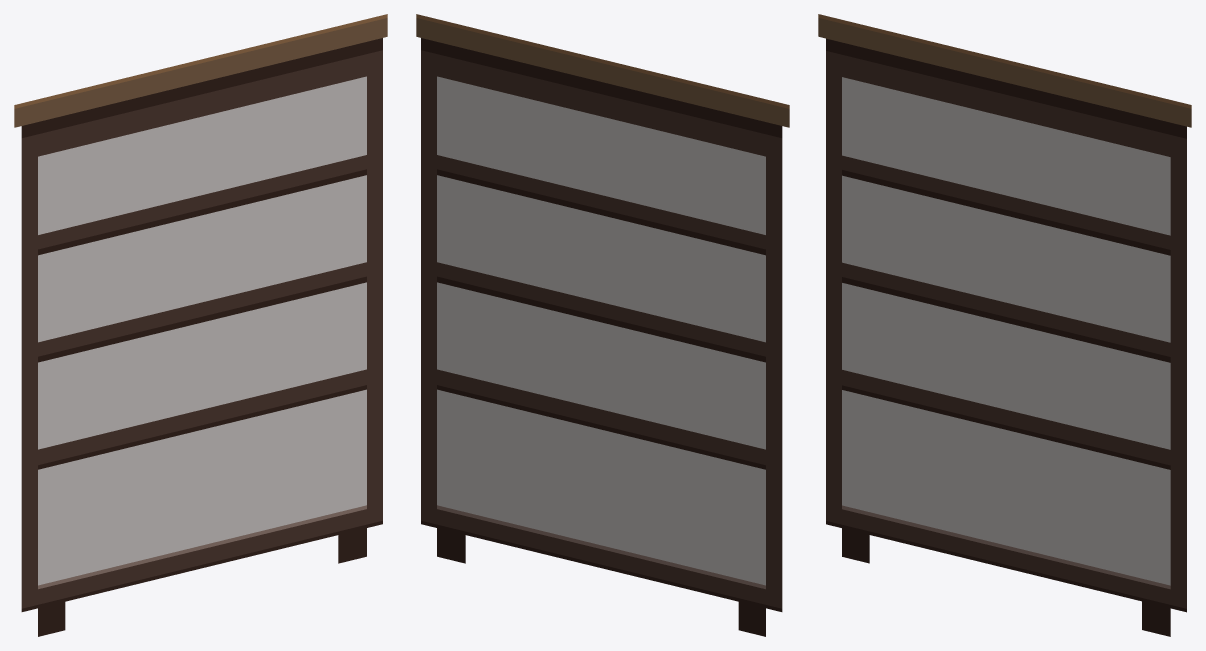
Rendered from toolboxes_many.FBX.
3 renders of one model, left to right at view 1: azimuth 30°, elevation 25°; view 2: azimuth 150°, elevation 25°; view 3: azimuth 330°, elevation 25°, orthographic.
Parts seen in each view (by area): view 1: toolboxes_many; view 2: toolboxes_many; view 3: toolboxes_many.
Boxes of the visible parts, left/top/right/bottom form: toolboxes_many: left=14, top=14, right=387, bottom=636; toolboxes_many: left=416, top=14, right=789, bottom=636; toolboxes_many: left=818, top=14, right=1191, bottom=636.
Bounding box in the file's own units: 70.64 × 97.17 × 1.53e-05.
